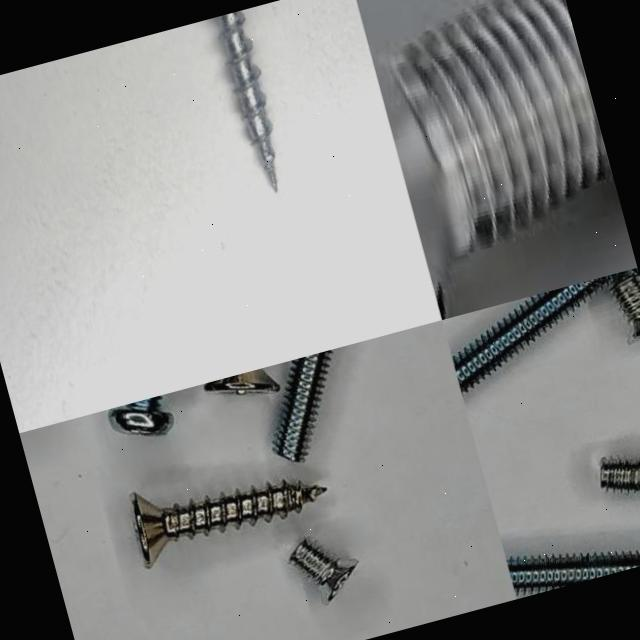Screw: (368, 0, 613, 319), (452, 267, 639, 394), (130, 482, 325, 567), (218, 10, 277, 190), (275, 349, 332, 461), (506, 552, 640, 595), (292, 539, 359, 601), (611, 275, 640, 339), (602, 458, 640, 493)
